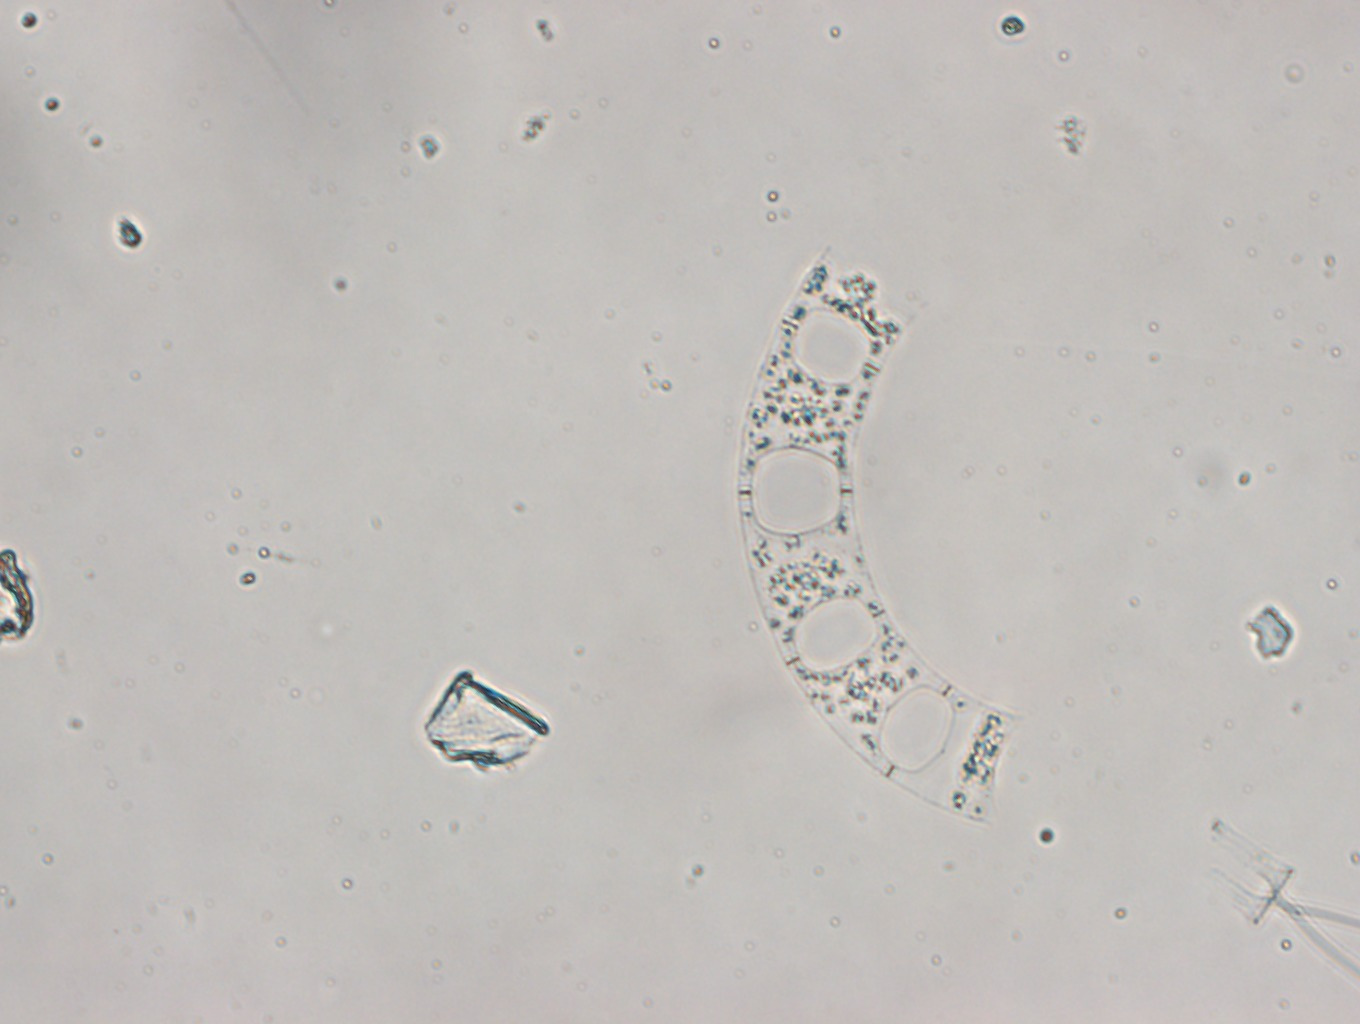eucampia: (734, 242, 1019, 823)
